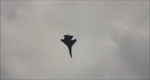maybay_muctieu: (60, 33, 79, 57)
